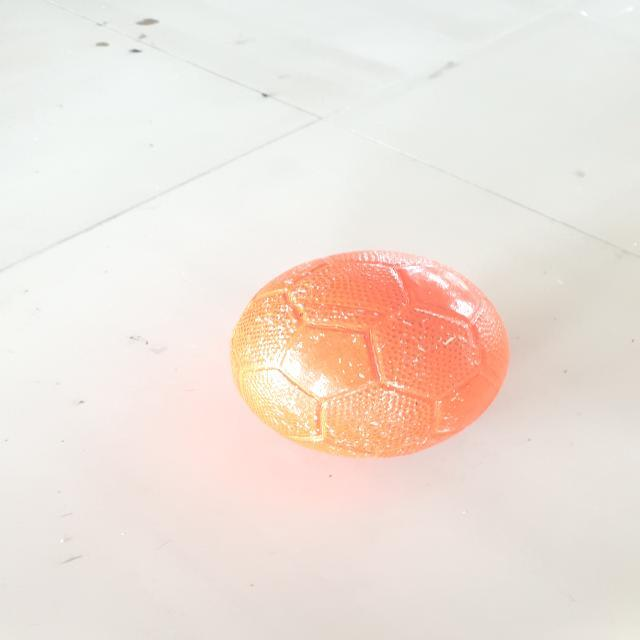bola: (222, 242, 534, 473)
